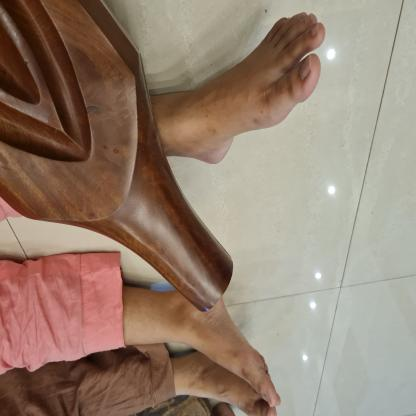leg: (153, 5, 330, 174), (124, 277, 284, 411)
